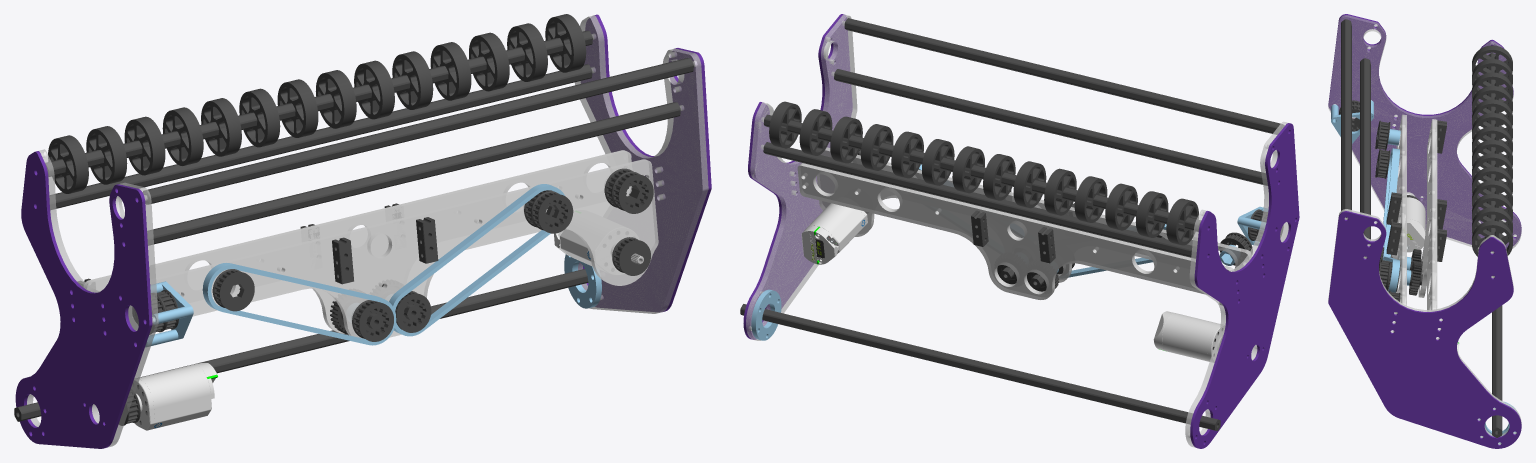
The picture shows the model from 3 angles, left to right: view 1: azimuth 30°, elevation 25°; view 2: azimuth 150°, elevation 25°; view 3: azimuth 270°, elevation 25°; orthographic projection. The views are drawn at different scales.
Visible parts, largest first — view 1: Part 1 (×5), 1/2" ThunderHex - 22" (×4), 2" 1/2" Hex Bore Flex Wheel (WCP-0133) (×14), 0315 - Placa arriba centro, 0315 - Placa arriba centro Copy 1, 22t HTD Pulley 9.53mm Wide (×5), 0125 - Banda 85T (×2), WCP-0941 (×2), 1/2" ThunderHex - 24.025000000000002", Aluminum Nutstrip, #10-32, .500" Spacing (WCP-0336) (×2), 20t HTD Pulley 9.53mm Wide; view 2: Part 1 (×5), 1/2" ThunderHex - 22" (×4), 2" 1/2" Hex Bore Flex Wheel (WCP-0133) (×14), 0315 - Placa arriba centro Copy 1, 1/2" ThunderHex - 24.025000000000002", WCP-0941 (×2), 0315 - Placa arriba centro, id159; view 3: Part 1 (×5), 2" 1/2" Hex Bore Flex Wheel (WCP-0133) (×14), 1/2" ThunderHex - 22" (×3), 0315 - Placa arriba centro Copy 1, 0315 - Placa arriba centro, Aluminum Nutstrip, #10-32, .500" Spacing (WCP-0336) (×5), 1/2" ThunderHex - 24.025000000000002", 0125 - Banda 85T (×2), 22t HTD Pulley 9.53mm Wide (×3), WCP-0941, 20DP Gear - 1/2in Hex - 30T (REV-21-1926).
Part boxes in pixels (bbox=[...]): Part 1 (×5): bbox=[15, 14, 711, 448]; 1/2" ThunderHex - 22" (×4): bbox=[45, 30, 693, 245]; 2" 1/2" Hex Bore Flex Wheel (WCP-0133) (×14): bbox=[48, 14, 586, 193]; 0315 - Placa arriba centro: bbox=[128, 159, 658, 338]; 0315 - Placa arriba centro Copy 1: bbox=[84, 150, 631, 333]; 22t HTD Pulley 9.53mm Wide (×5): bbox=[212, 171, 653, 341]; 0125 - Banda 85T (×2): bbox=[202, 184, 564, 345]; WCP-0941 (×2): bbox=[131, 228, 643, 430]; 1/2" ThunderHex - 24.025000000000002": bbox=[14, 269, 588, 421]; Aluminum Nutstrip, #10-32, .500" Spacing (WCP-0336) (×2): bbox=[332, 217, 438, 284]; 20t HTD Pulley 9.53mm Wide: bbox=[612, 237, 650, 275]; Part 1 (×5): bbox=[743, 14, 1299, 448]; 1/2" ThunderHex - 22" (×4): bbox=[763, 18, 1284, 258]; 2" 1/2" Hex Bore Flex Wheel (WCP-0133) (×14): bbox=[769, 101, 1198, 245]; 0315 - Placa arriba centro Copy 1: bbox=[797, 163, 1233, 299]; 1/2" ThunderHex - 24.025000000000002": bbox=[740, 304, 1220, 431]; WCP-0941 (×2): bbox=[801, 203, 1225, 362]; 0315 - Placa arriba centro: bbox=[816, 147, 1251, 282]; id159: bbox=[815, 229, 839, 264]; Part 1 (×5): bbox=[1328, 14, 1521, 448]; 2" 1/2" Hex Bore Flex Wheel (WCP-0133) (×14): bbox=[1472, 45, 1512, 256]; 1/2" ThunderHex - 22" (×3): bbox=[1341, 19, 1495, 258]; 0315 - Placa arriba centro Copy 1: bbox=[1418, 119, 1437, 309]; 0315 - Placa arriba centro: bbox=[1391, 114, 1406, 321]; Aluminum Nutstrip, #10-32, .500" Spacing (WCP-0336) (×5): bbox=[1386, 120, 1446, 261]; 1/2" ThunderHex - 24.025000000000002": bbox=[1492, 233, 1502, 437]; 0125 - Banda 85T (×2): bbox=[1382, 148, 1399, 292]; 22t HTD Pulley 9.53mm Wide (×3): bbox=[1375, 120, 1390, 289]; WCP-0941: bbox=[1407, 197, 1425, 252]; 20DP Gear - 1/2in Hex - 30T (REV-21-1926): bbox=[1409, 262, 1421, 295].
Bounding box in the file's own units: 0.6102 × 0.3218 × 0.238.
